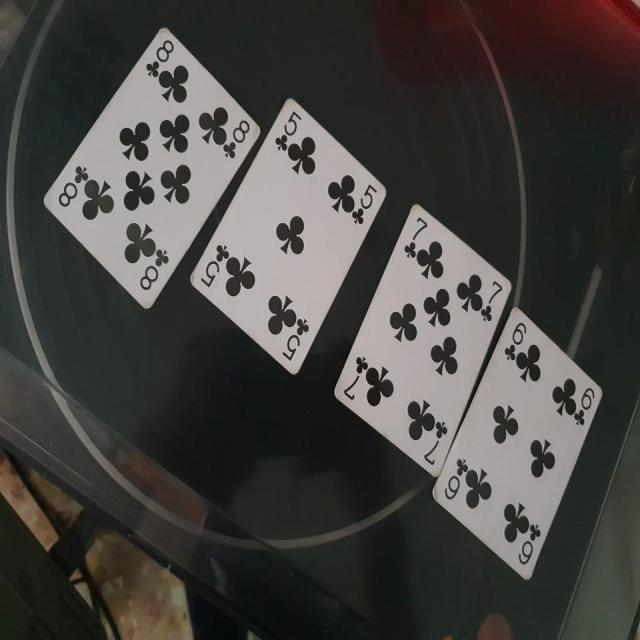5 Trefoils: (189, 92, 388, 372)
6 Trefoils: (431, 306, 604, 581)
7 Trefoils: (330, 201, 515, 474)
8 Trefoils: (41, 25, 261, 309)
